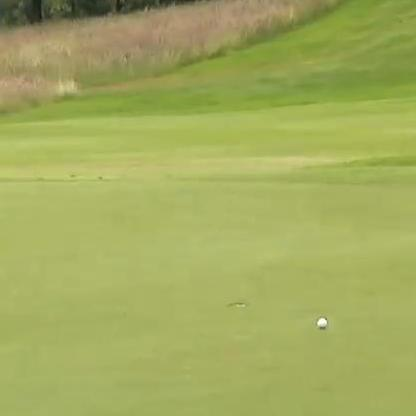golfball: (315, 315, 327, 329)
